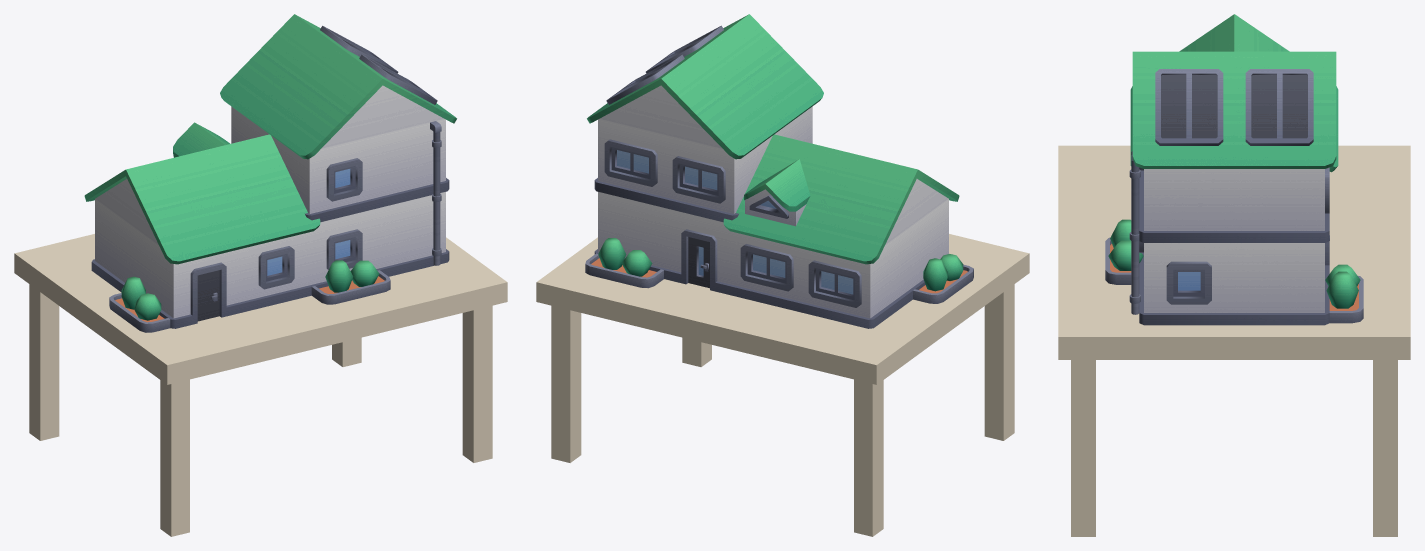
The model's file is dollhouse.glb.
3 renders of one model, left to right at view 1: azimuth 30°, elevation 25°; view 2: azimuth 150°, elevation 25°; view 3: azimuth 270°, elevation 25°, orthographic. The views are drawn at different scales.
Visible parts, largest first — view 1: building-type-b, dollhouse_table; view 2: building-type-b, dollhouse_table; view 3: building-type-b, dollhouse_table.
Part boxes in pixels (x1,y1,x2,y2): building-type-b: (84, 14, 456, 332); dollhouse_table: (14, 234, 507, 536); building-type-b: (585, 14, 973, 328); dollhouse_table: (536, 234, 1029, 536); building-type-b: (1105, 14, 1363, 325); dollhouse_table: (1058, 145, 1410, 536).
Bounding box in the file's own units: 0.9 × 0.9619 × 0.7.
2 materials, 1 textured.
